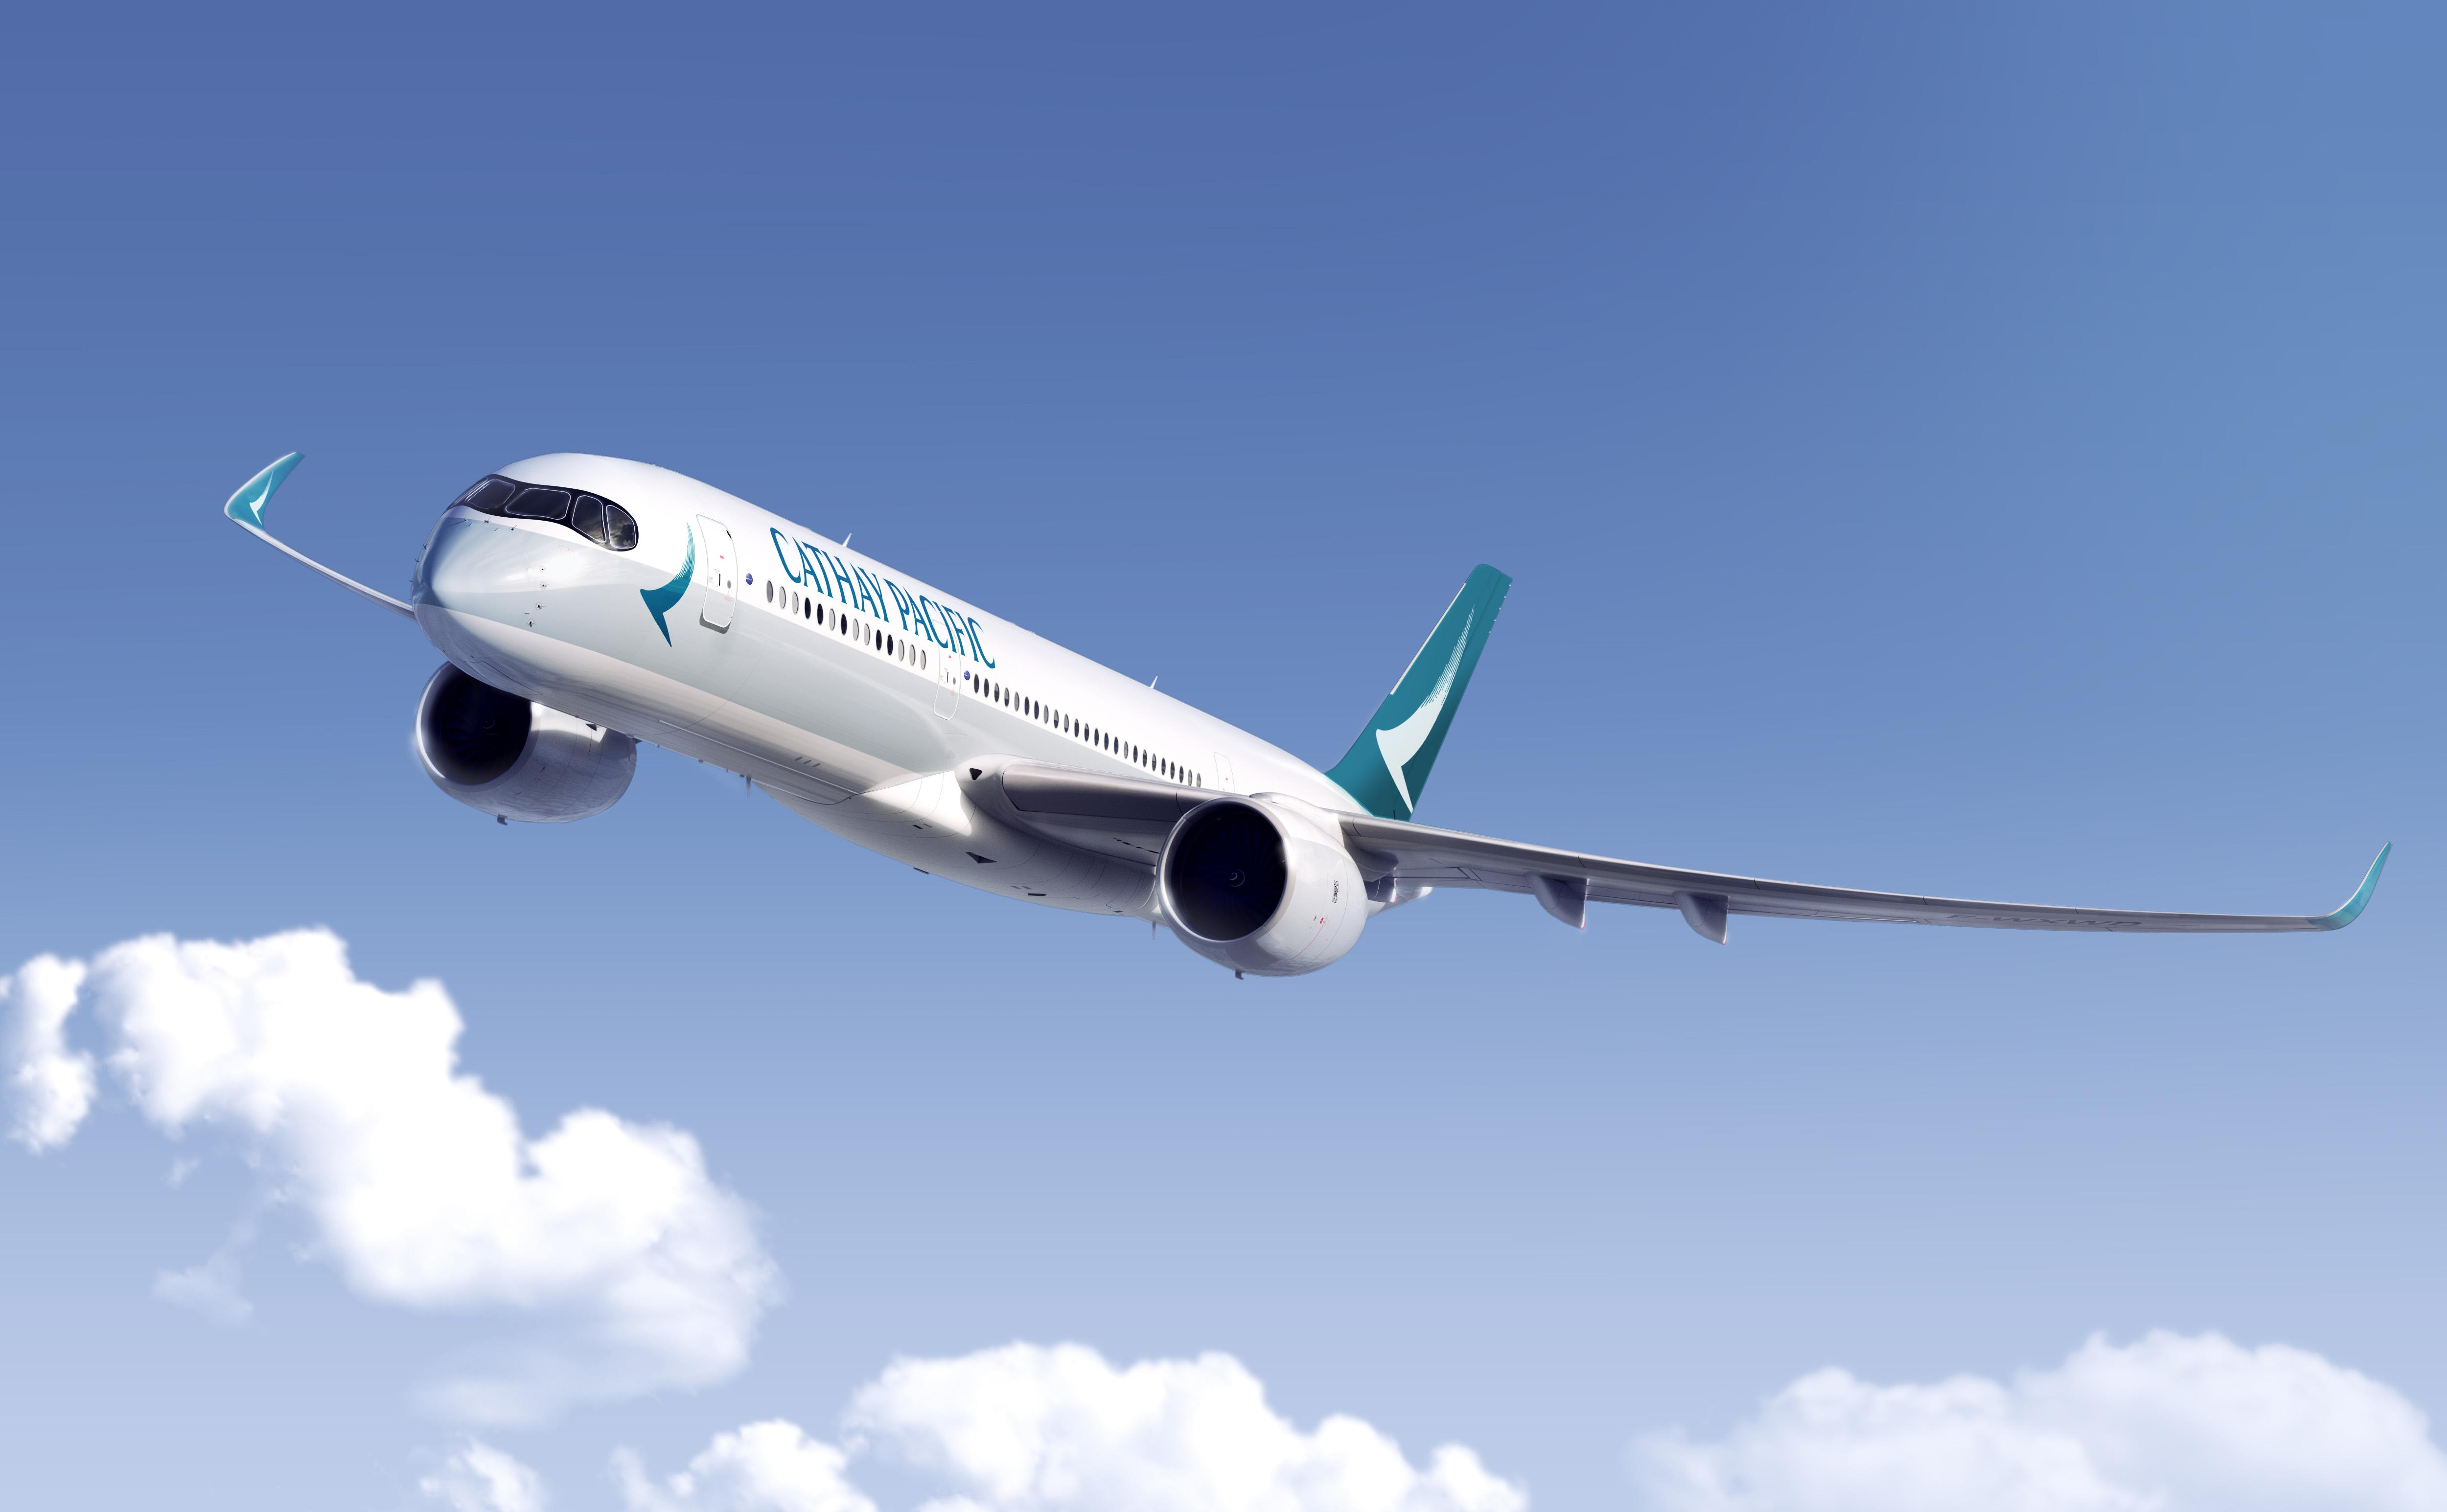airplane: (220, 414, 2409, 981)
